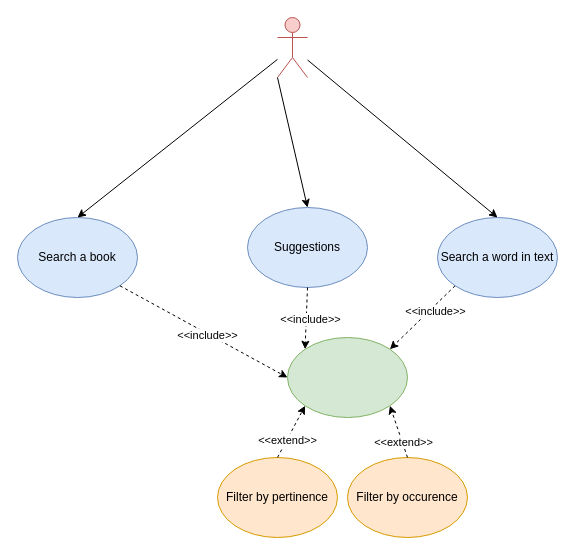
This 575x555 diagram has some shape labels left out. The box of each missing label's shape, as (x1, y1, x2, y2) in pixels:
User: (276, 16, 308, 78)
Visualize details of a book: (286, 336, 408, 418)
